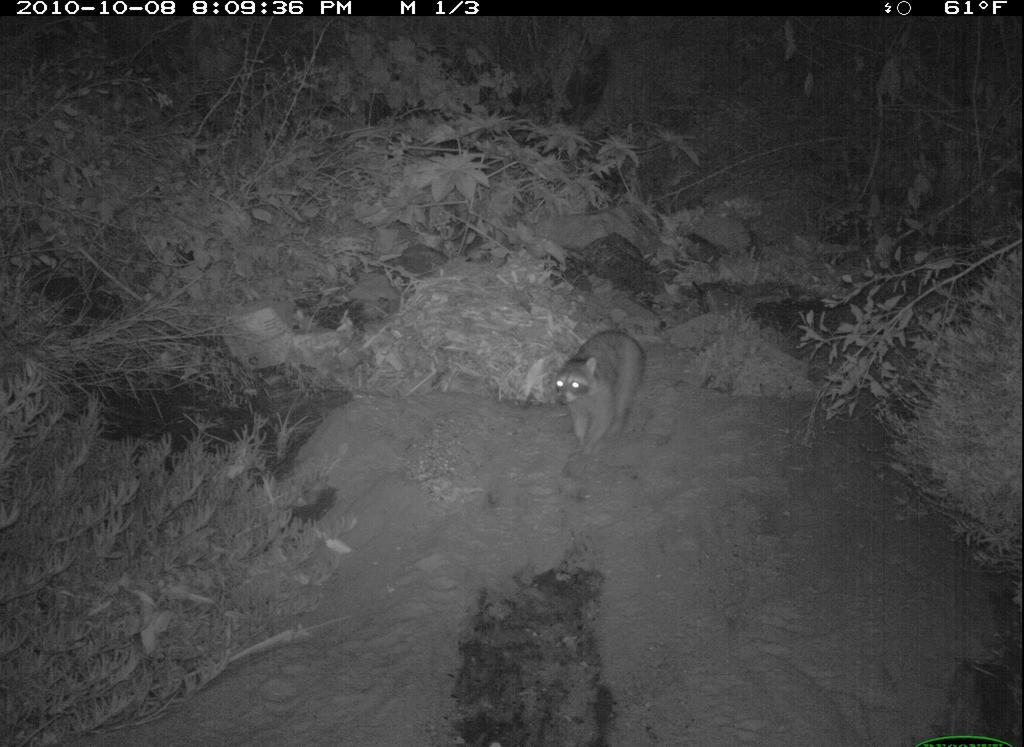raccoon: (548, 326, 652, 465)
